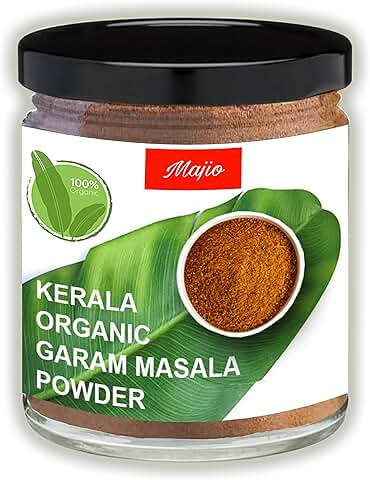Garamasala: (16, 17, 359, 451)
